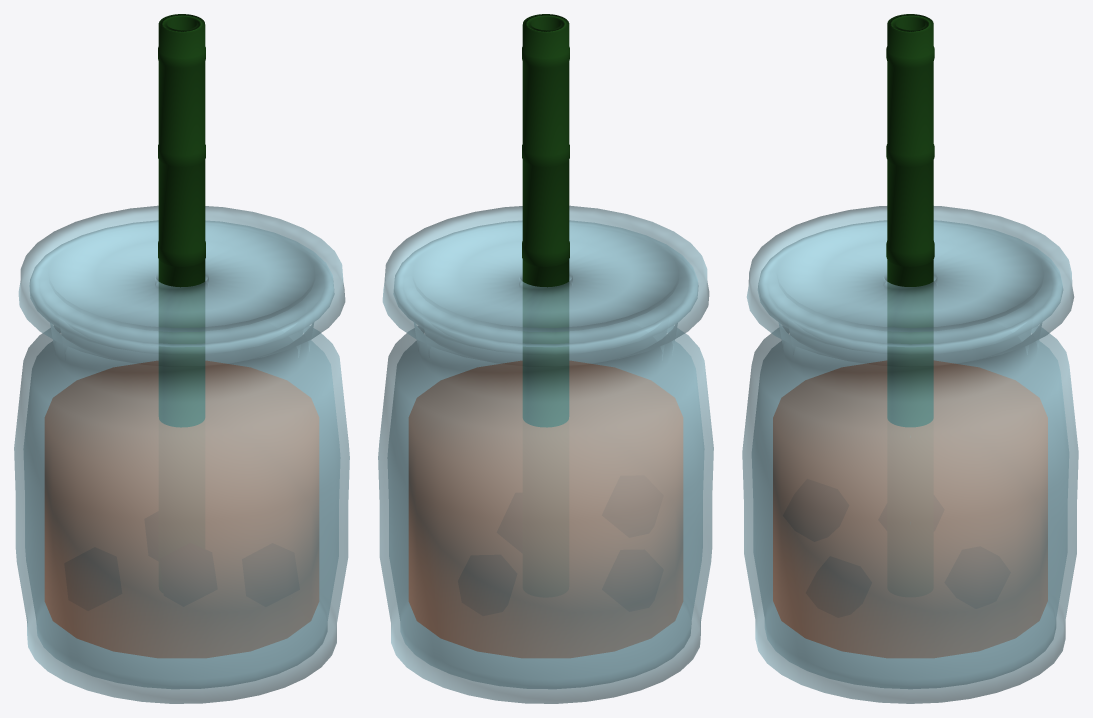
The model's file is test_kopp_9.fbx.
The picture shows the model from 3 angles, left to right: view 1: azimuth 30°, elevation 25°; view 2: azimuth 150°, elevation 25°; view 3: azimuth 270°, elevation 25°; orthographic projection.
Parts seen in each view (by area): view 1: Kopp, Drink, Straw; view 2: Kopp, Drink, Straw; view 3: Kopp, Drink, Straw.
Part boxes in pixels (x1,y1,x2,y2): Kopp: (14, 205, 349, 703); Drink: (45, 361, 318, 657); Straw: (158, 14, 205, 427); Kopp: (378, 205, 713, 703); Drink: (409, 361, 682, 657); Straw: (522, 14, 569, 427); Kopp: (742, 206, 1078, 703); Drink: (773, 360, 1047, 657); Straw: (886, 14, 934, 427).
Size of the model in its own units: 217 by 437 by 217.
